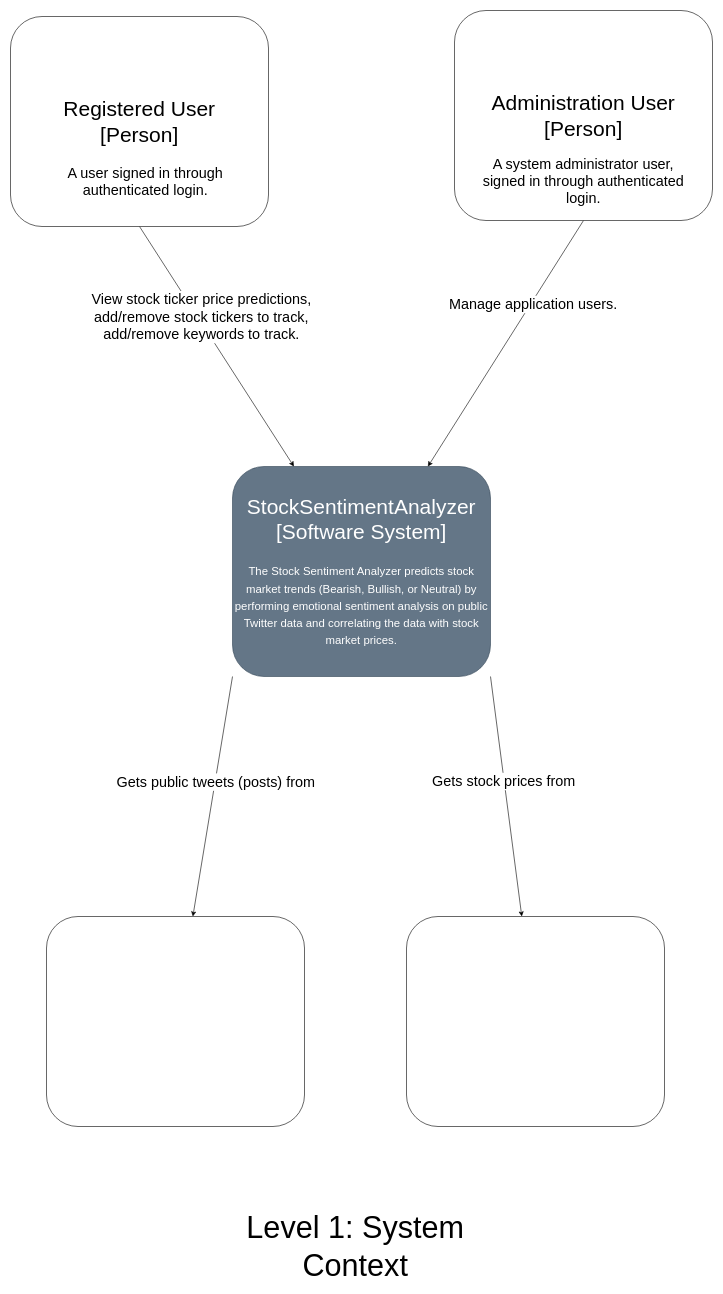
This 723x1294 diagram has some shape labels left out. The shapes that lost their labels are listed below. From the top down, each one's centre as x and y in pixels, then its label:
point 175,1021: Twitter [Software System]
point 535,1021: Yahoo! Finance [Software System]
